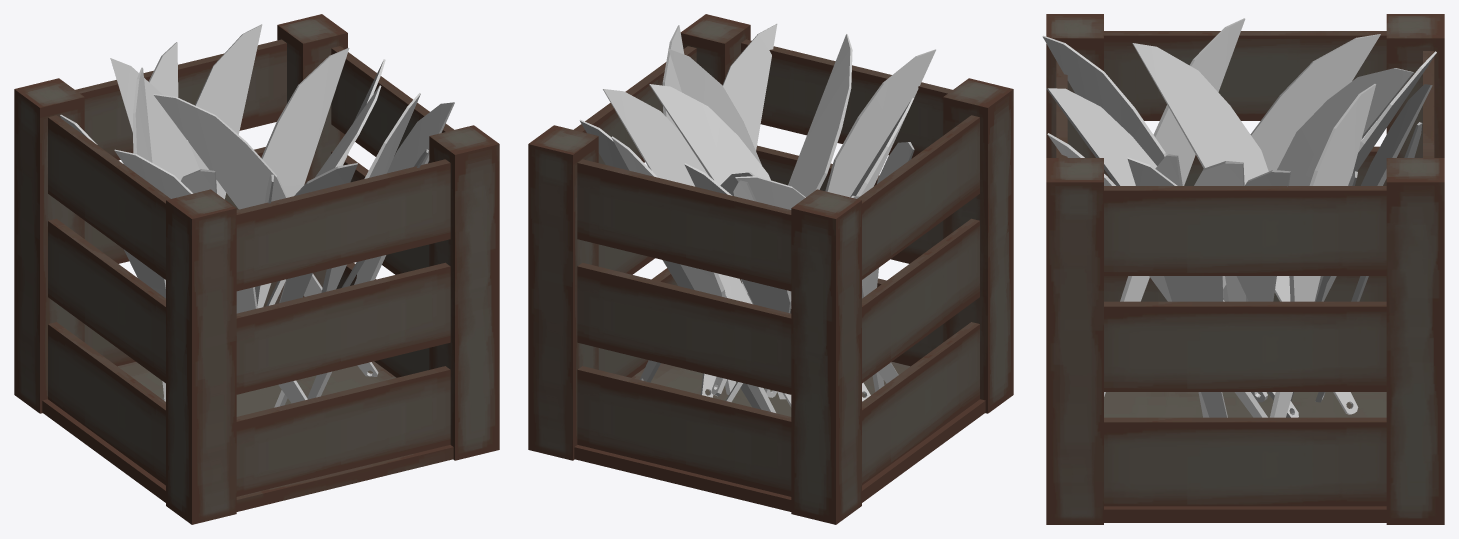
The model's file is flatSpikes.fbx.
The picture shows the model from 3 angles, left to right: view 1: azimuth 30°, elevation 25°; view 2: azimuth 150°, elevation 25°; view 3: azimuth 270°, elevation 25°; orthographic projection. The views are drawn at different scales.
Parts seen in each view (by area): view 1: pCube19, pCube13, pCube15, pCube12, pCube14, pCube18, pCube17, pCylinder313 (×2), pCylinder312, pCube16, pCylinder310, pCylinder309 (×2) (+4 smaller); view 2: pCube19, pCube13, pCube15, pCube18, pCube16, pCube12, pCylinder311 (×2), pCube17, pCylinder312 (×2), pCylinder310 (×2), pCylinder316, pCylinder315 (×2) (+4 smaller); view 3: pCube19, pCube15, pCube13, pCube16, pCube14, pCube17, pCylinder314 (×2), pCylinder315 (×2), pCylinder312 (×2), pCylinder313, pCylinder311 (×2), pCylinder309 (×2) (+4 smaller).
Part boxes in pixels (x1,y1,x2,y2): pCube19: [48, 39, 454, 291]; pCube13: [48, 147, 450, 394]; pCube15: [48, 263, 450, 496]; pCube12: [166, 189, 236, 524]; pCube14: [429, 125, 499, 460]; pCube18: [14, 78, 84, 413]; pCube17: [42, 361, 453, 511]; pCylinder313 (×2): [60, 48, 349, 308]; pCylinder312: [153, 94, 378, 376]; pCube16: [277, 14, 347, 297]; pCylinder310: [189, 24, 262, 199]; pCylinder309 (×2): [148, 42, 454, 399]; pCube19: [573, 39, 979, 291]; pCube13: [577, 145, 979, 394]; pCube15: [577, 268, 979, 496]; pCube18: [791, 189, 861, 524]; pCube16: [528, 125, 598, 460]; pCube12: [943, 78, 1013, 413]; pCylinder311 (×2): [649, 34, 870, 401]; pCube17: [574, 362, 985, 511]; pCylinder312 (×2): [639, 49, 935, 397]; pCylinder310 (×2): [611, 24, 777, 412]; pCylinder316: [603, 89, 791, 407]; pCylinder315 (×2): [668, 48, 913, 402]; pCube19: [1056, 31, 1434, 275]; pCube15: [1104, 276, 1386, 506]; pCube13: [1104, 146, 1386, 391]; pCube16: [1386, 158, 1444, 524]; pCube14: [1046, 158, 1103, 524]; pCube17: [1104, 392, 1386, 522]; pCylinder314 (×2): [1104, 18, 1413, 396]; pCylinder315 (×2): [1132, 43, 1358, 417]; pCylinder312 (×2): [1042, 35, 1376, 417]; pCylinder313: [1222, 34, 1380, 288]; pCylinder311 (×2): [1046, 88, 1298, 417]; pCylinder309 (×2): [1127, 84, 1432, 417].
Bounding box in the file's own units: 0.9967 × 1.01 × 1.01.
